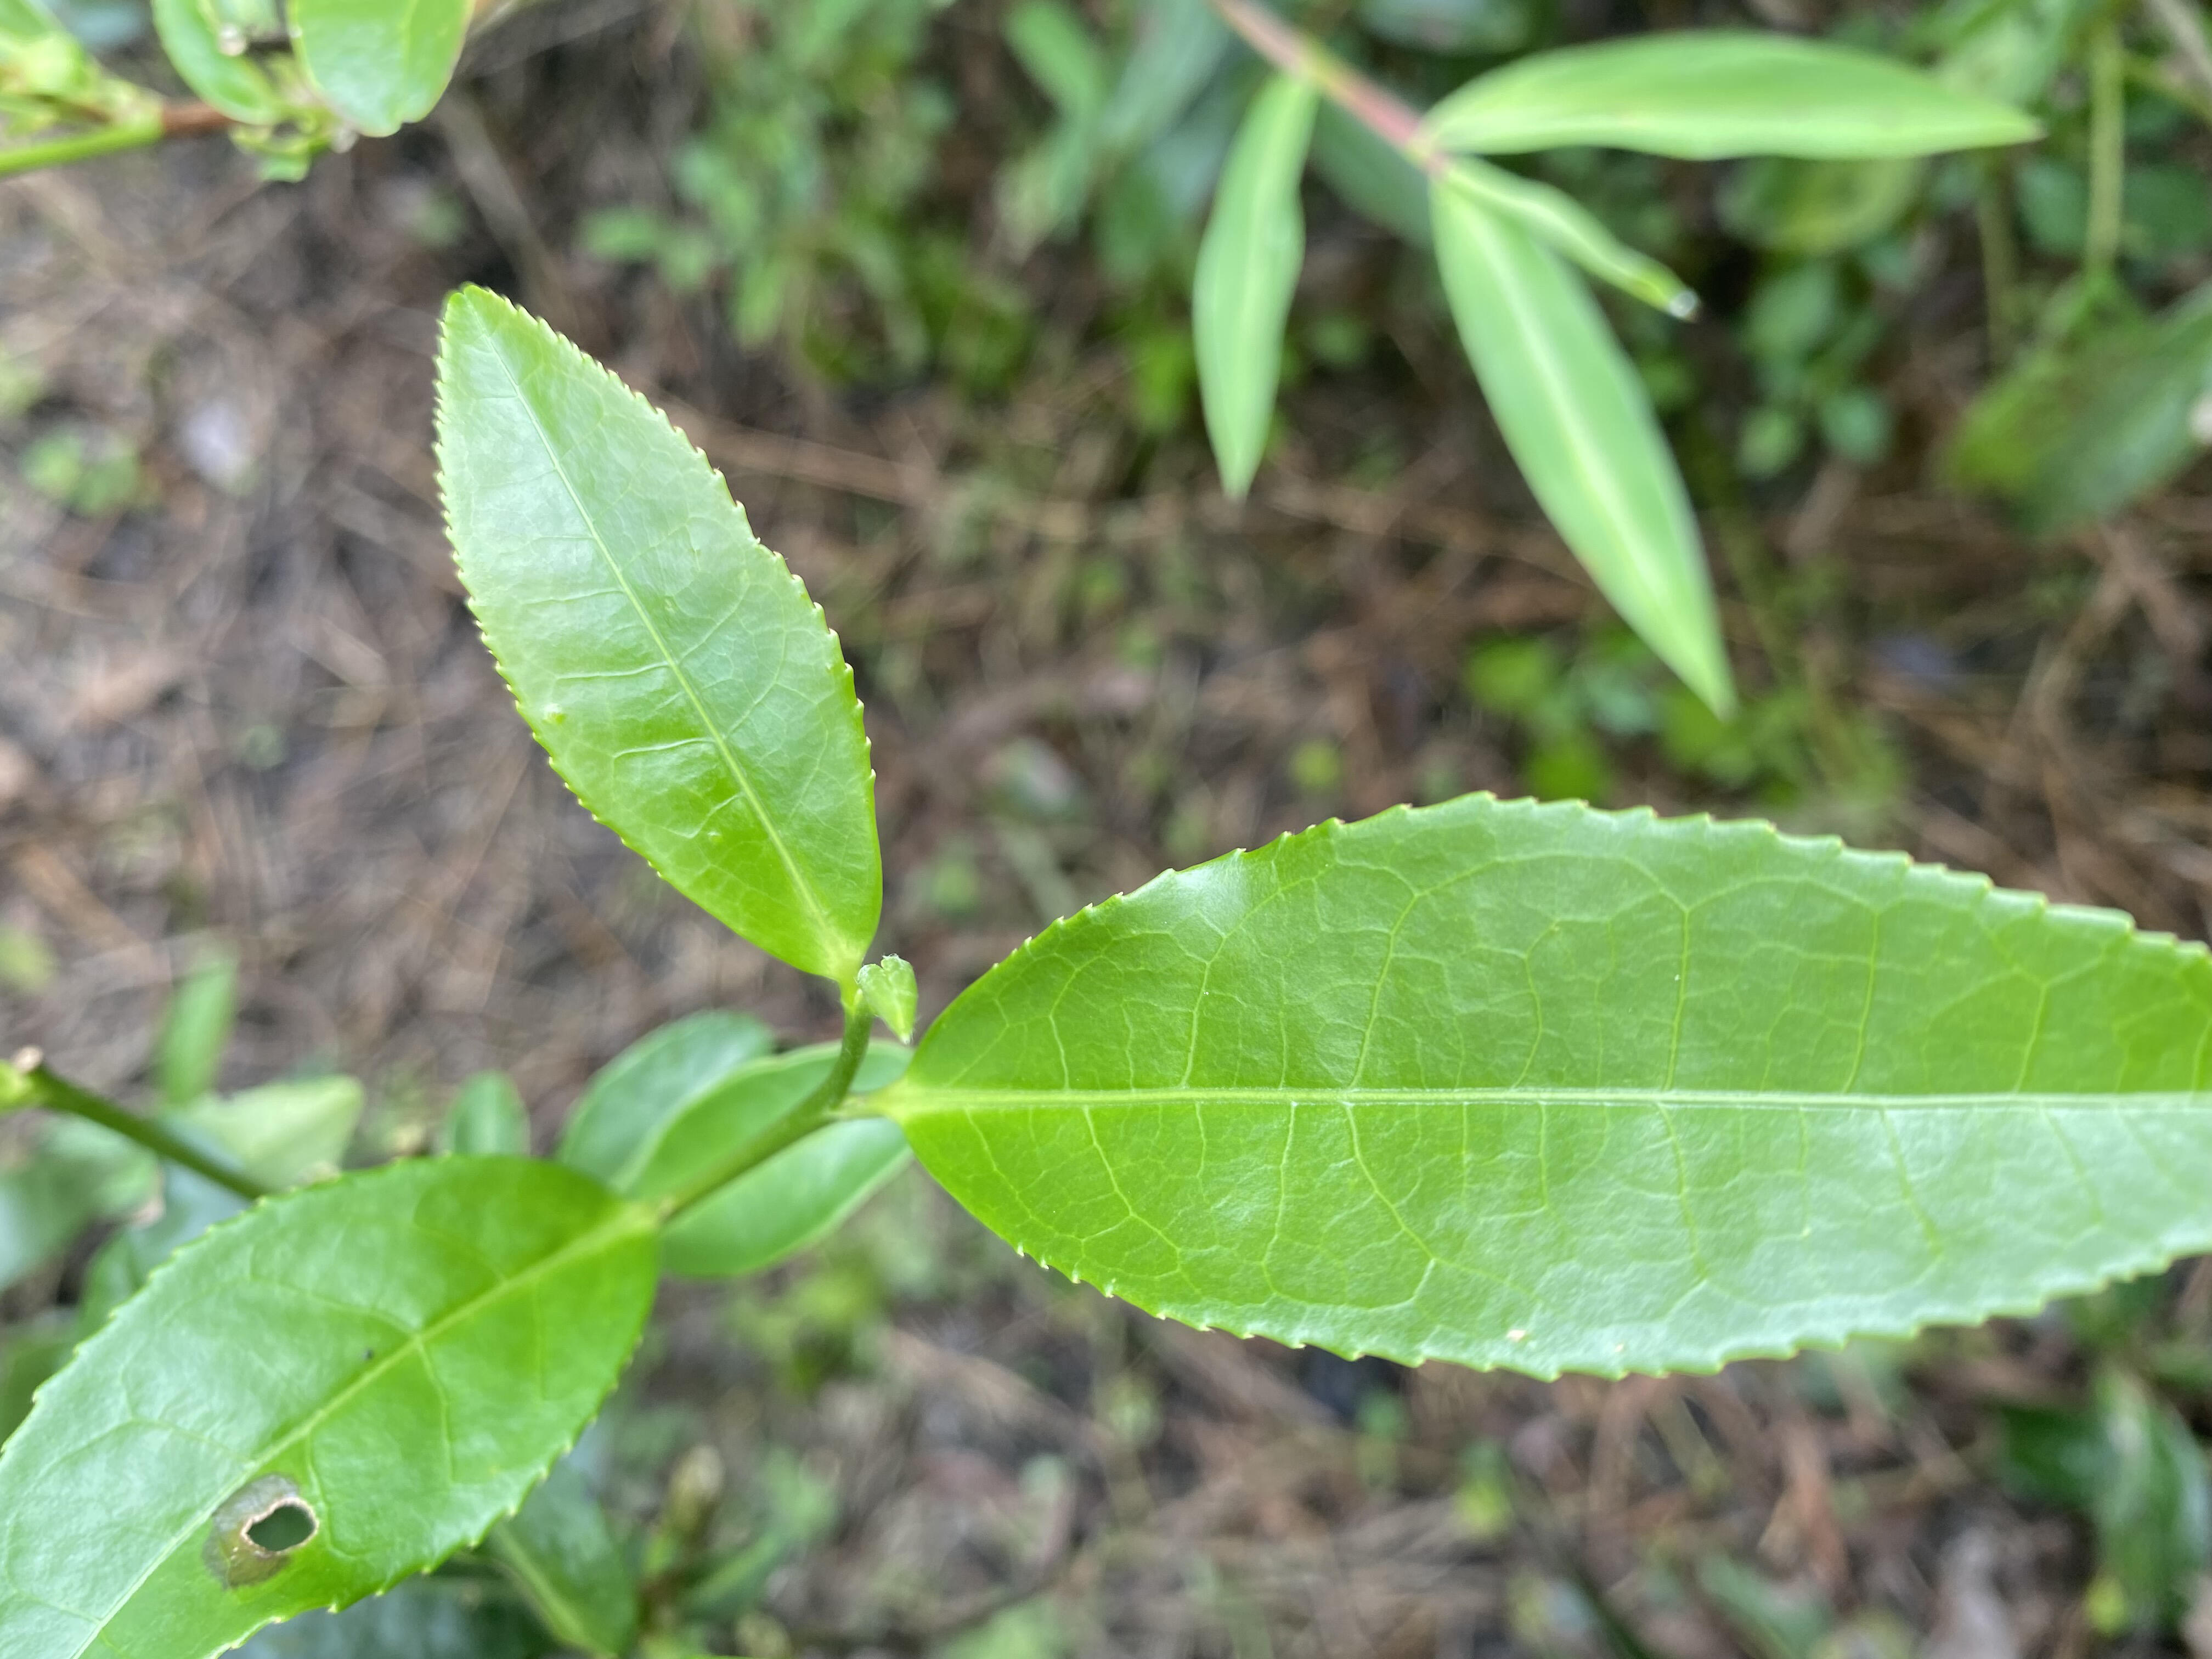chihuo_low: (3, 1150, 655, 1659)
healthy: (911, 788, 2209, 1385), (430, 281, 883, 974)
